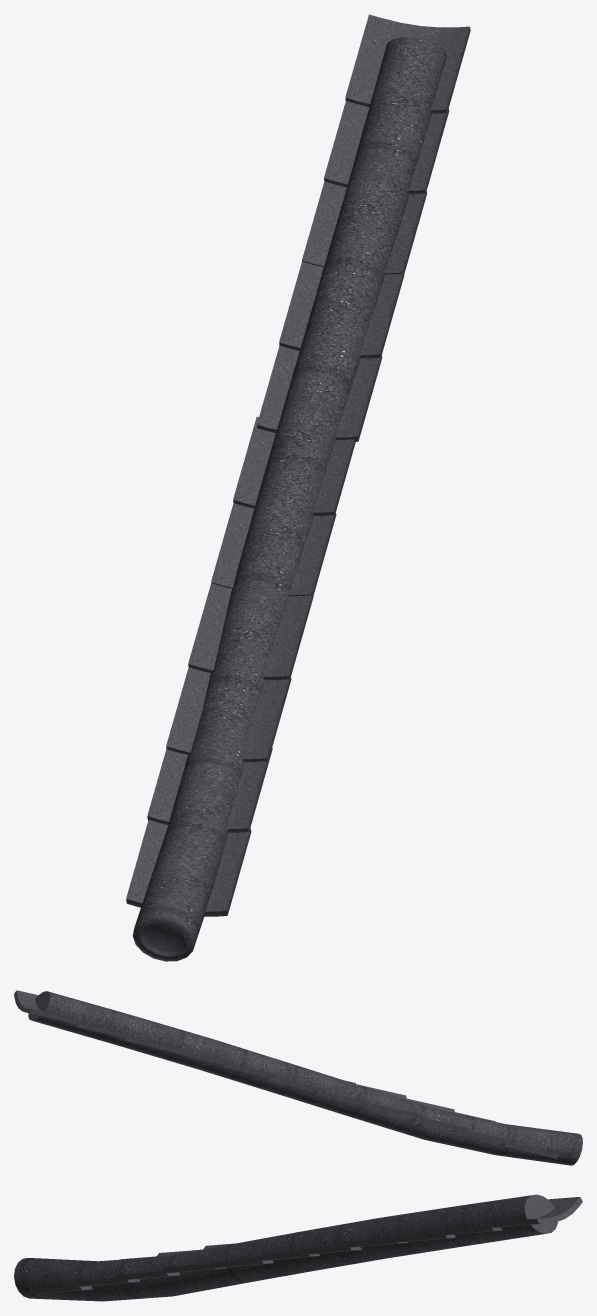
File: SM_Roof_19.fbx
3 renders of one model, top to bottom at view 1: azimuth 30°, elevation 25°; view 2: azimuth 150°, elevation 25°; view 3: azimuth 270°, elevation 25°, orthographic. The views are drawn at different scales.
Parts seen in each view (by area): view 1: SM_Roof_19; view 2: SM_Roof_19; view 3: SM_Roof_19.
Part boxes in pixels (bbox=[...]): SM_Roof_19: bbox=[126, 14, 470, 961]; SM_Roof_19: bbox=[14, 990, 582, 1165]; SM_Roof_19: bbox=[14, 1194, 582, 1301].
Size of the model in its own units: 374 by 400 by 232.
1 material, 1 textured.
